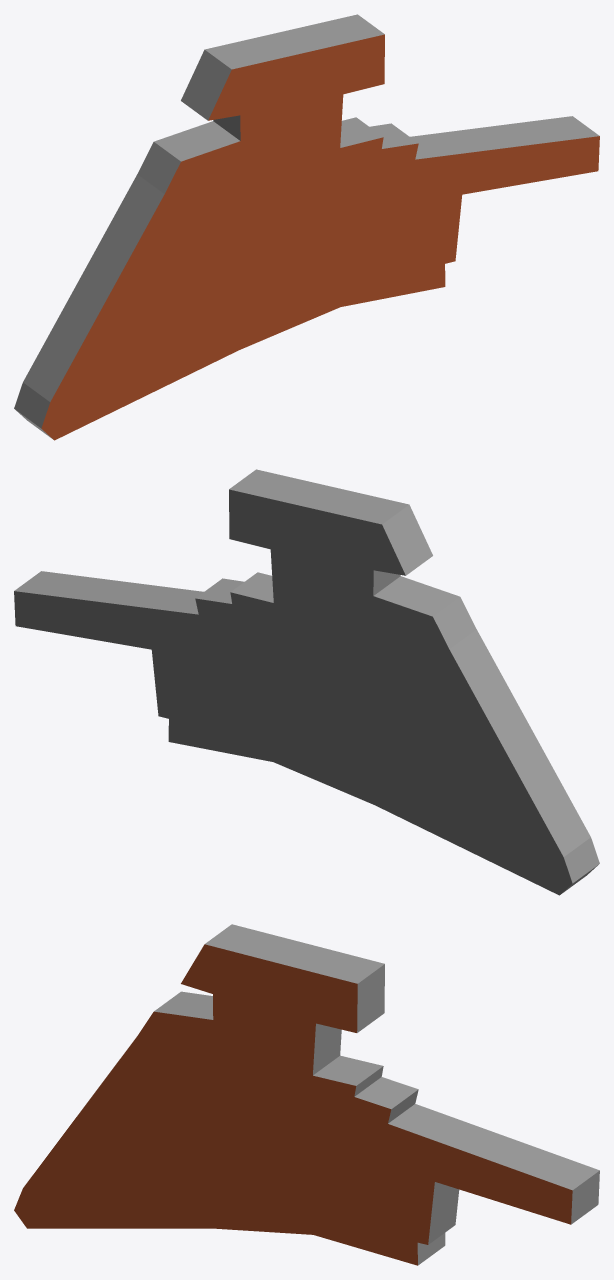
The model's file is construction_5038_assumed_A_Casa_h6m.obj.
The picture shows the model from 3 angles, top to bottom: view 1: azimuth 30°, elevation 25°; view 2: azimuth 150°, elevation 25°; view 3: azimuth 330°, elevation 25°; orthographic projection.
Parts seen in each view (by area): view 1: construction_5038_assumed_A_Casa; view 2: construction_5038_assumed_A_Casa; view 3: construction_5038_assumed_A_Casa.
Boxes of the visible parts, bbox=[...] form: construction_5038_assumed_A_Casa: bbox=[14, 14, 599, 440]; construction_5038_assumed_A_Casa: bbox=[14, 469, 599, 895]; construction_5038_assumed_A_Casa: bbox=[14, 924, 599, 1265].
Size of the model in its own units: 70.74 by 39.66 by 6.
